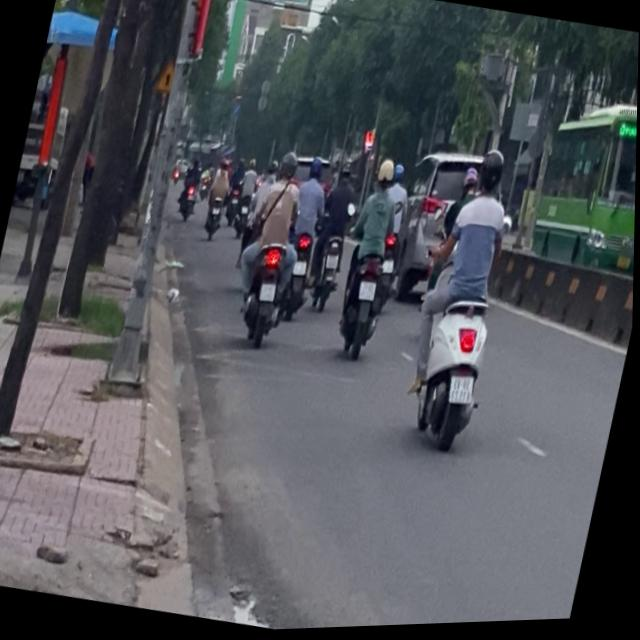helmet: (475, 150, 511, 203), (278, 152, 302, 185), (376, 159, 399, 193)
licenseplate: (394, 141, 535, 462), (330, 155, 418, 365), (228, 148, 314, 349)
nohelmet: (450, 376, 479, 409), (360, 282, 379, 304), (260, 283, 278, 305)
